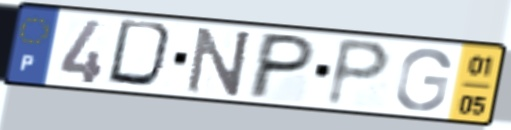4: (55, 15, 107, 87)
D: (103, 17, 181, 93)
G: (393, 46, 454, 113)
N: (184, 24, 256, 98)
P: (243, 29, 320, 101), (322, 35, 395, 110)
